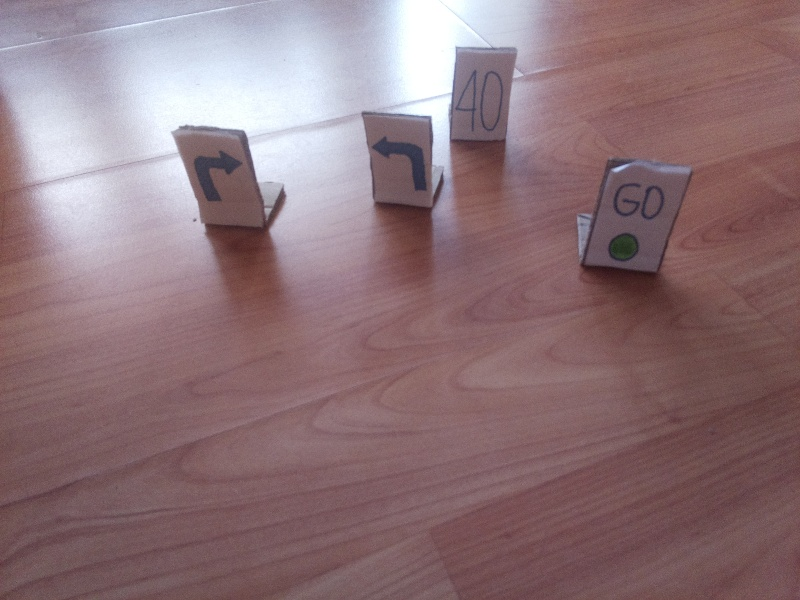40: (456, 65, 504, 133)
go: (608, 180, 666, 267)
turn left: (372, 133, 428, 196)
turn right: (192, 145, 244, 210)
